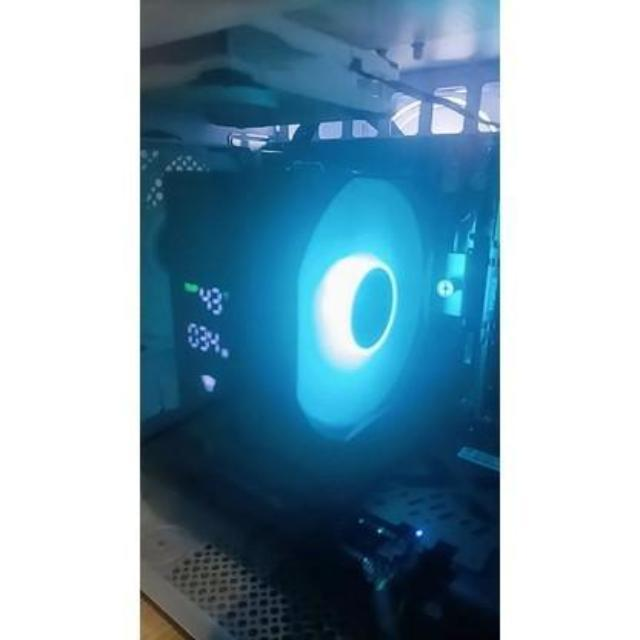CPU_Fan: (166, 162, 460, 484)
